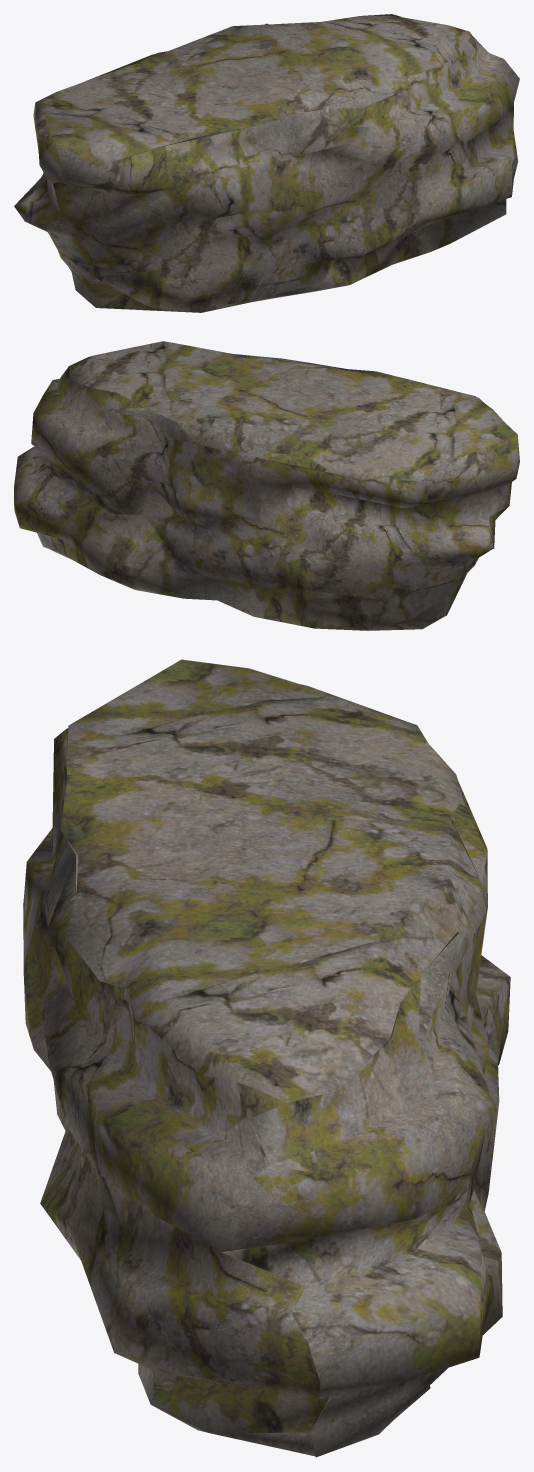
The picture shows the model from 3 angles, top to bottom: view 1: azimuth 30°, elevation 25°; view 2: azimuth 150°, elevation 25°; view 3: azimuth 270°, elevation 25°; orthographic projection. The views are drawn at different scales.
Parts seen in each view (by area): view 1: Cube.057; view 2: Cube.057; view 3: Cube.057.
Boxes of the visible parts, <box> form: Cube.057: <box>14,14,519,312</box>; Cube.057: <box>14,341,519,630</box>; Cube.057: <box>23,659,510,1457</box>.
Bounding box in the file's own units: 11.24 × 4.35 × 4.99.
Materials: 1 (1 with a texture image).
